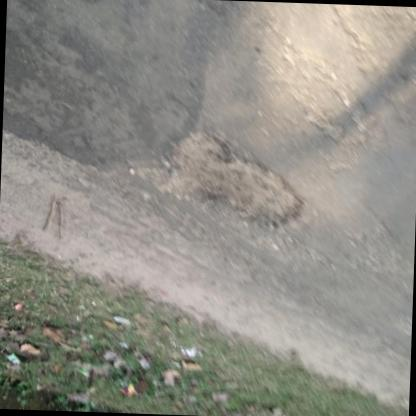pothole: (164, 132, 310, 232)
